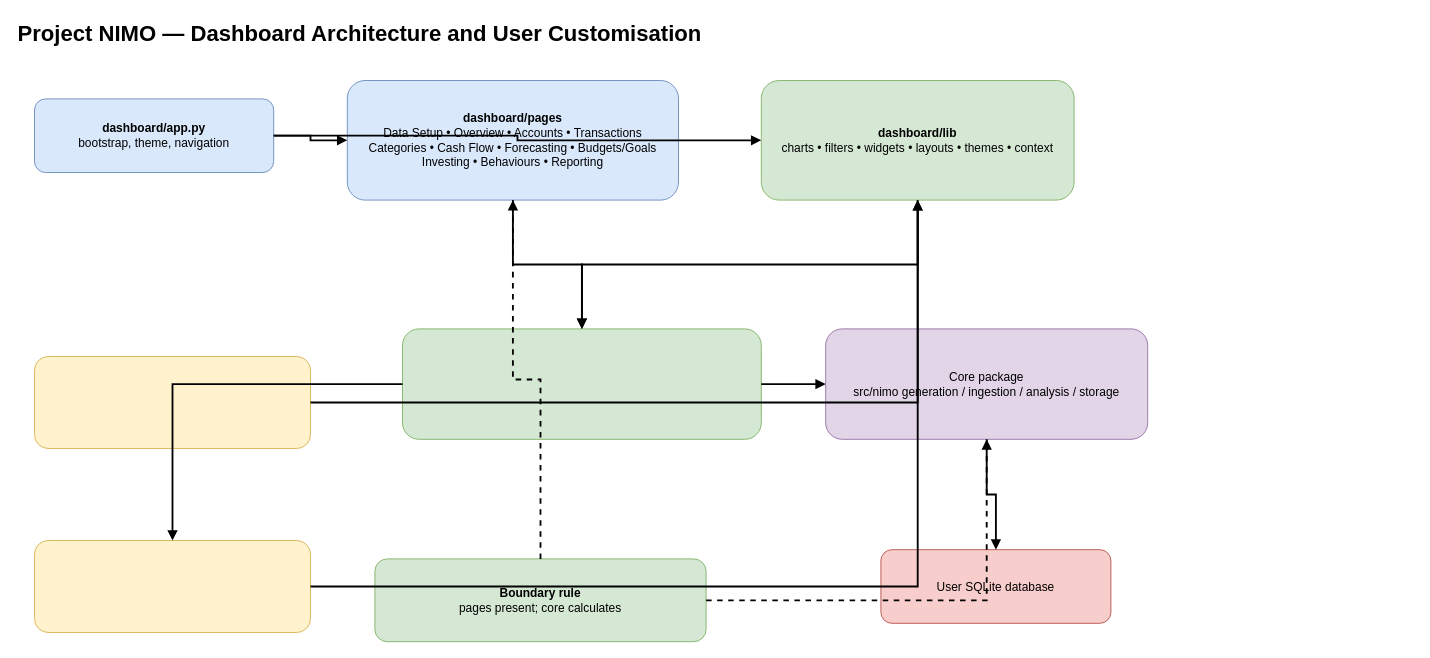
Image size: 1430x658. Some labels were removed from this diagram. Here are the shapes that lost their labels. From the top down, the centre of each, then its label:
At point 172,402: "Light/dark YAML tokens surfaces, text, brand, status, charts".
At point 581,383: "ApplicationContainer analysis, ingestion, generation, categories, layouts".
At point 172,586: "Persisted page layout headline metrics + widget ids/order".
